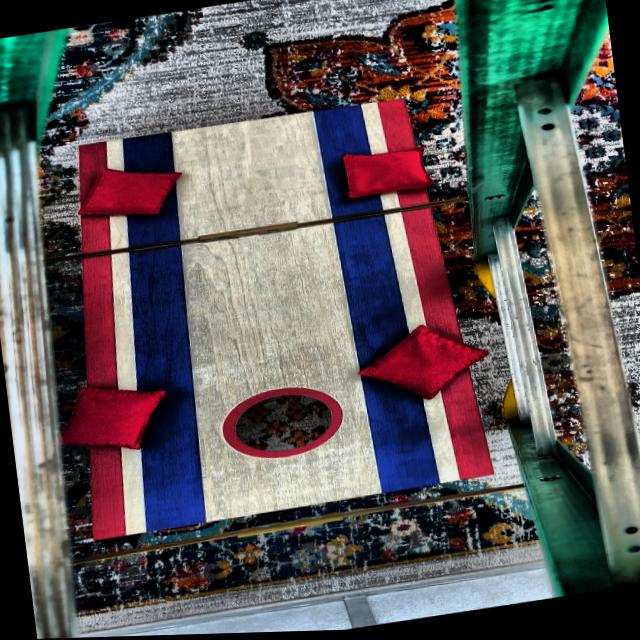board: (79, 99, 449, 532)
hole: (216, 380, 346, 466)
red-bean-bag: (353, 315, 495, 412), (54, 374, 173, 461), (72, 154, 186, 226), (342, 142, 433, 201)
